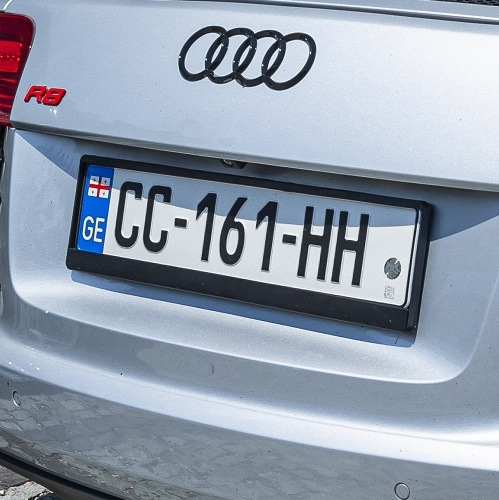plaka: (64, 153, 435, 347)
